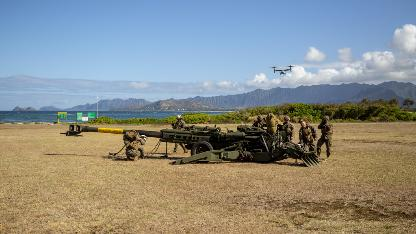Tornado: (267, 65, 297, 75)
